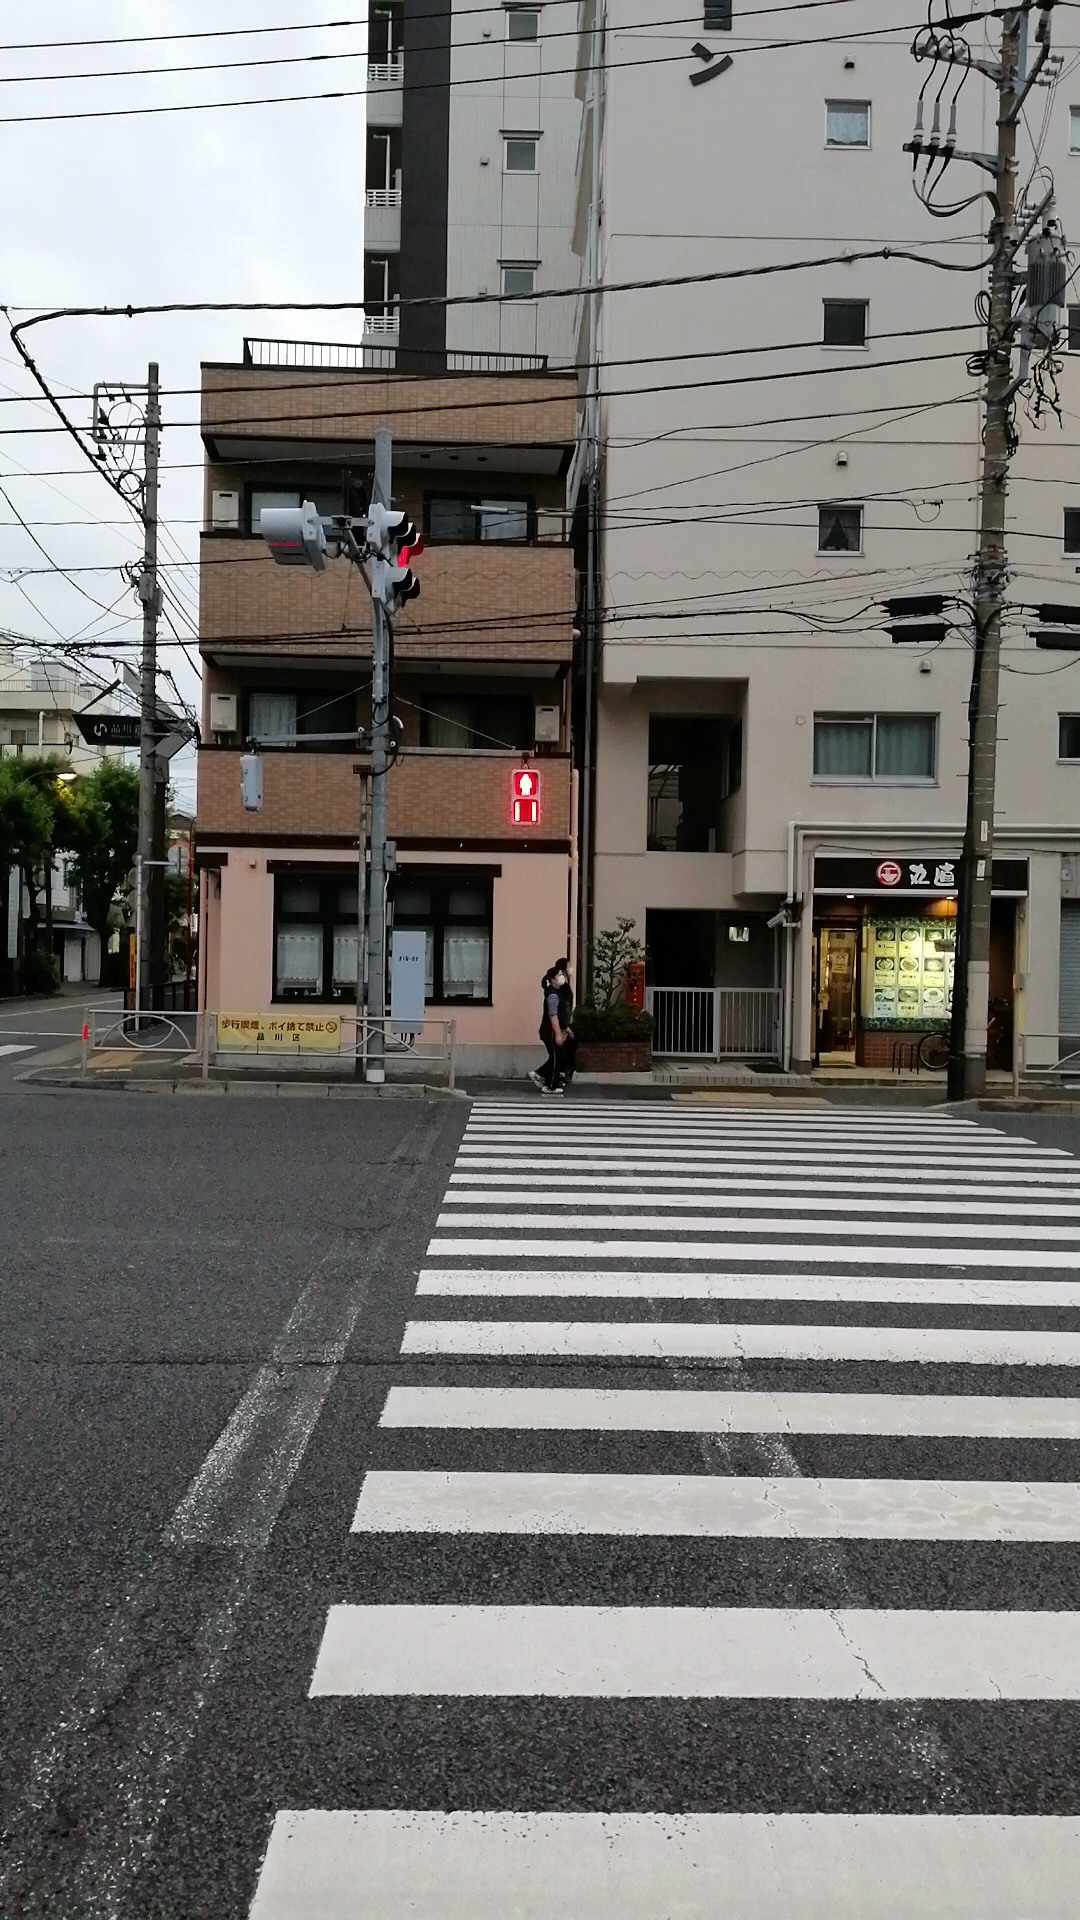red: (509, 767, 541, 825)
